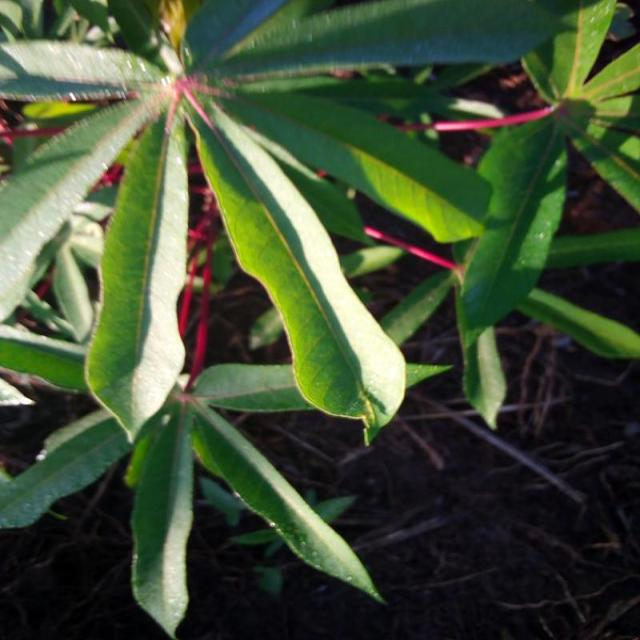cassava leaf: (182, 86, 408, 446), (82, 104, 190, 443)
